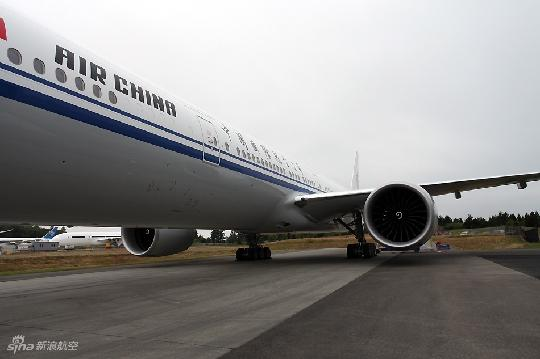airplane: (1, 41, 540, 234)
